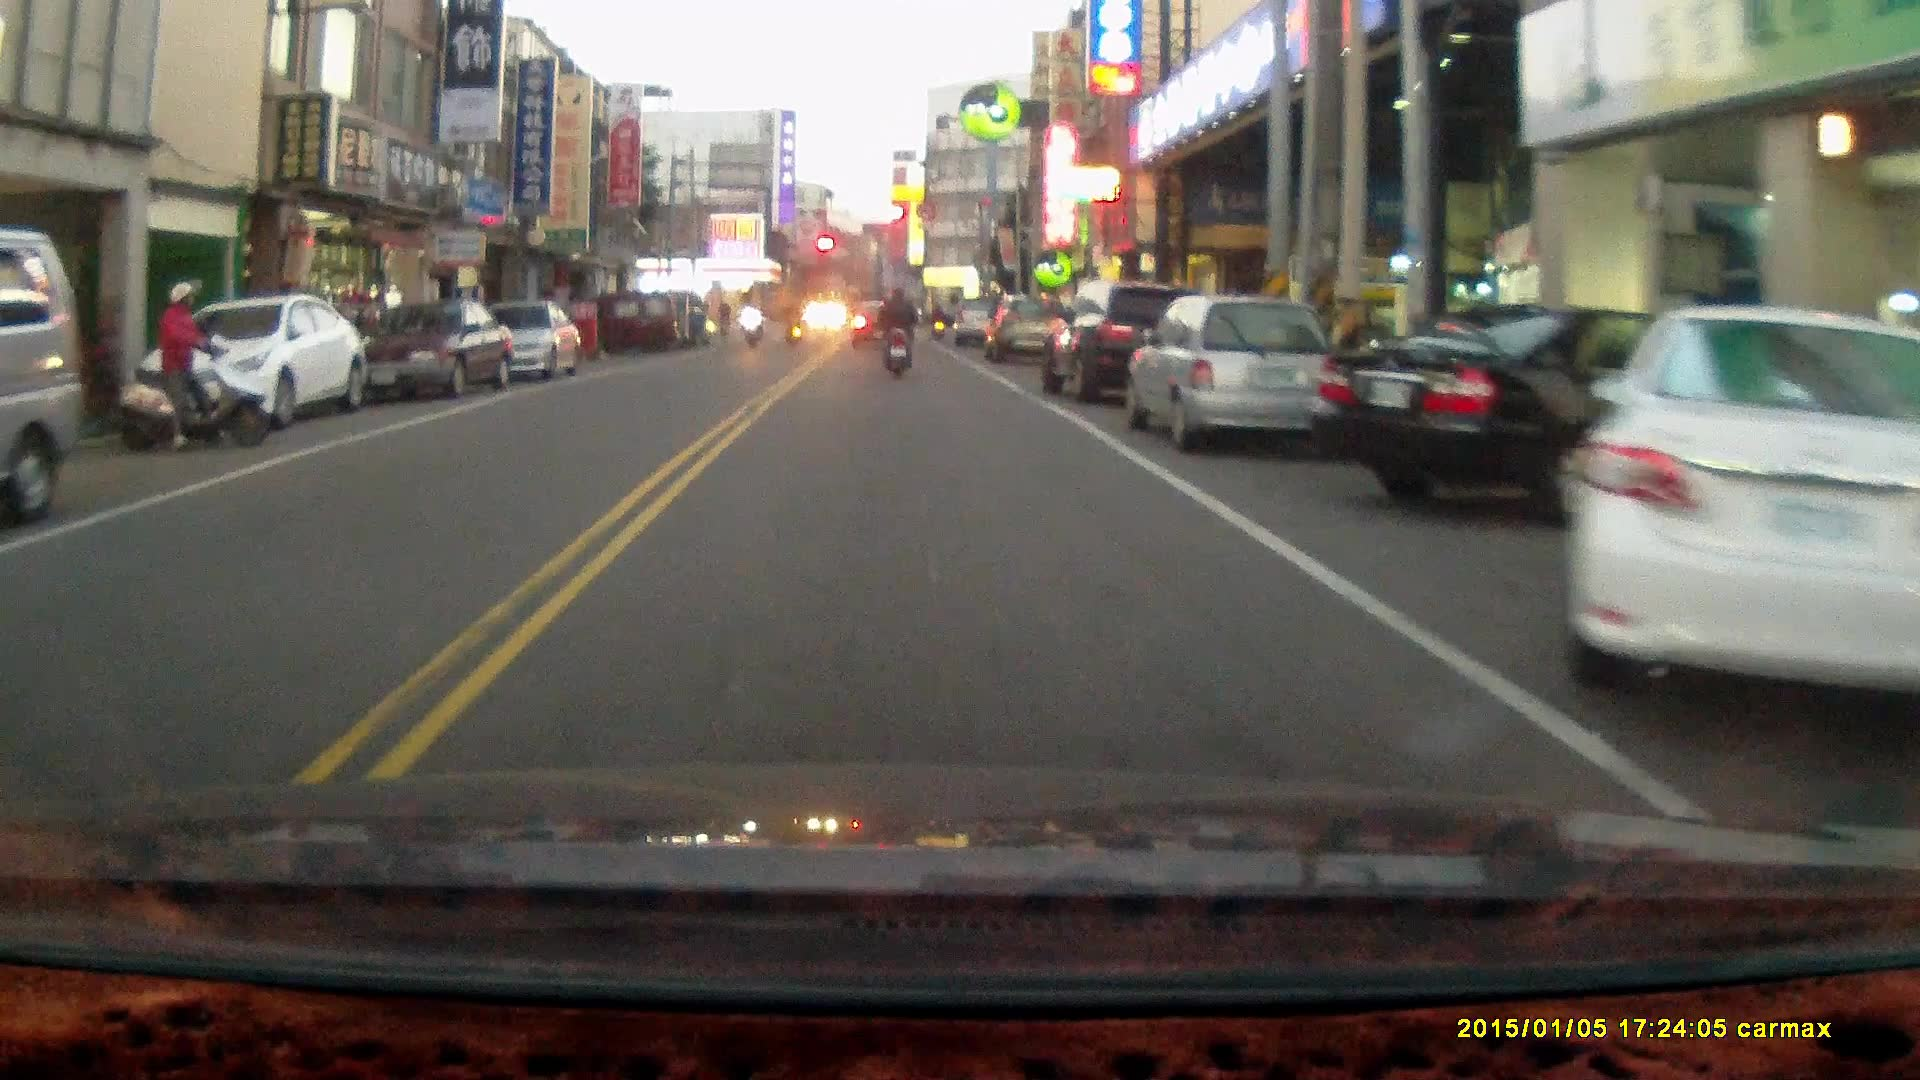rider: (107, 275, 264, 450), (874, 280, 917, 380), (737, 299, 764, 349)
vehicle: (1582, 301, 1920, 694), (1315, 300, 1862, 524), (1131, 293, 1344, 441), (136, 291, 363, 427), (1, 229, 86, 525), (1040, 285, 1219, 407), (348, 299, 510, 399), (458, 296, 584, 383)
